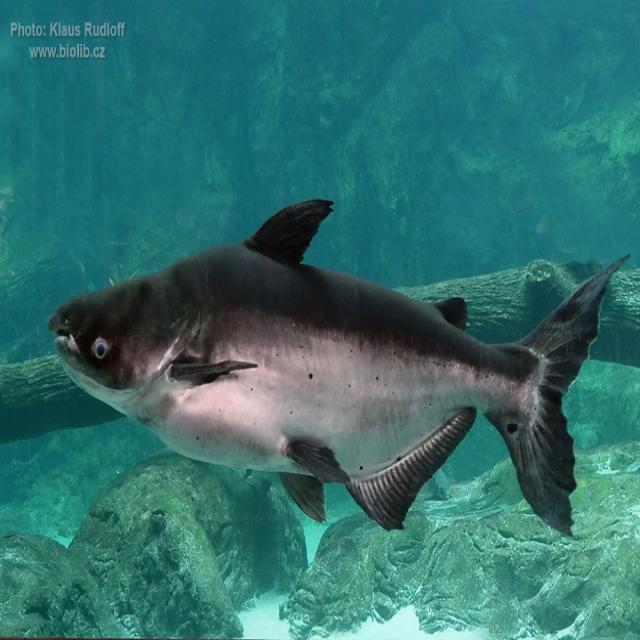Mekong_Giant_Catfish: (46, 195, 630, 538)
